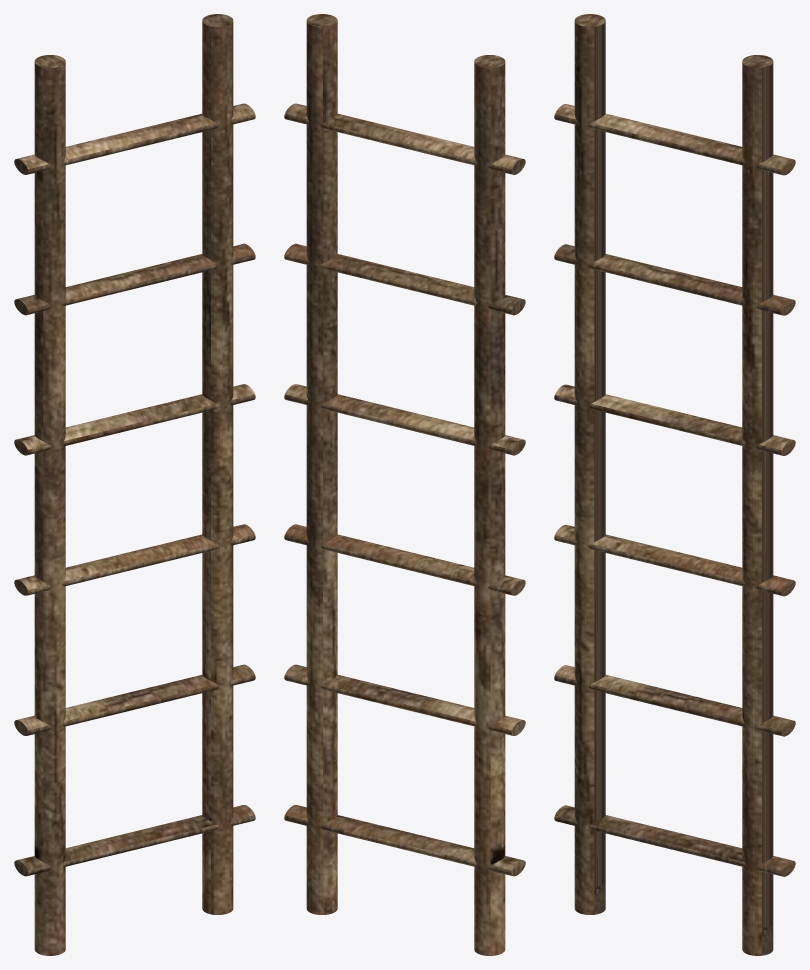
Rendered from Ladder.glb.
3 renders of one model, left to right at view 1: azimuth 30°, elevation 25°; view 2: azimuth 150°, elevation 25°; view 3: azimuth 330°, elevation 25°, orthographic.
Visible parts, largest first — view 1: Ladder; view 2: Ladder; view 3: Ladder.
Part boxes in pixels (left/top/right/bottom): Ladder: left=14, top=14, right=255, bottom=955; Ladder: left=284, top=14, right=525, bottom=955; Ladder: left=554, top=14, right=795, bottom=955.
Size of the model in its own units: 2.04 by 7.61 by 0.2407.
Materials: 1 (1 with a texture image).
